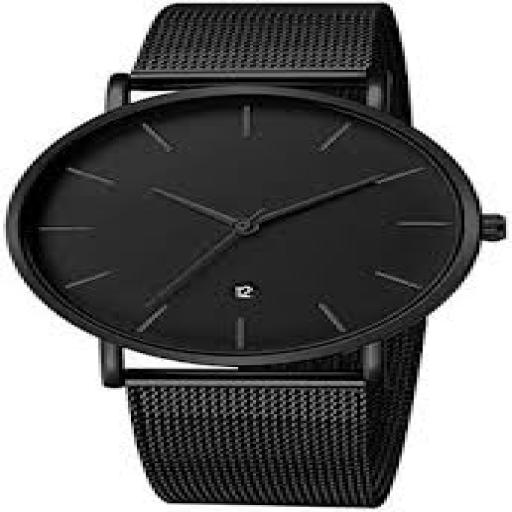KolSaati: (5, 3, 512, 512)
